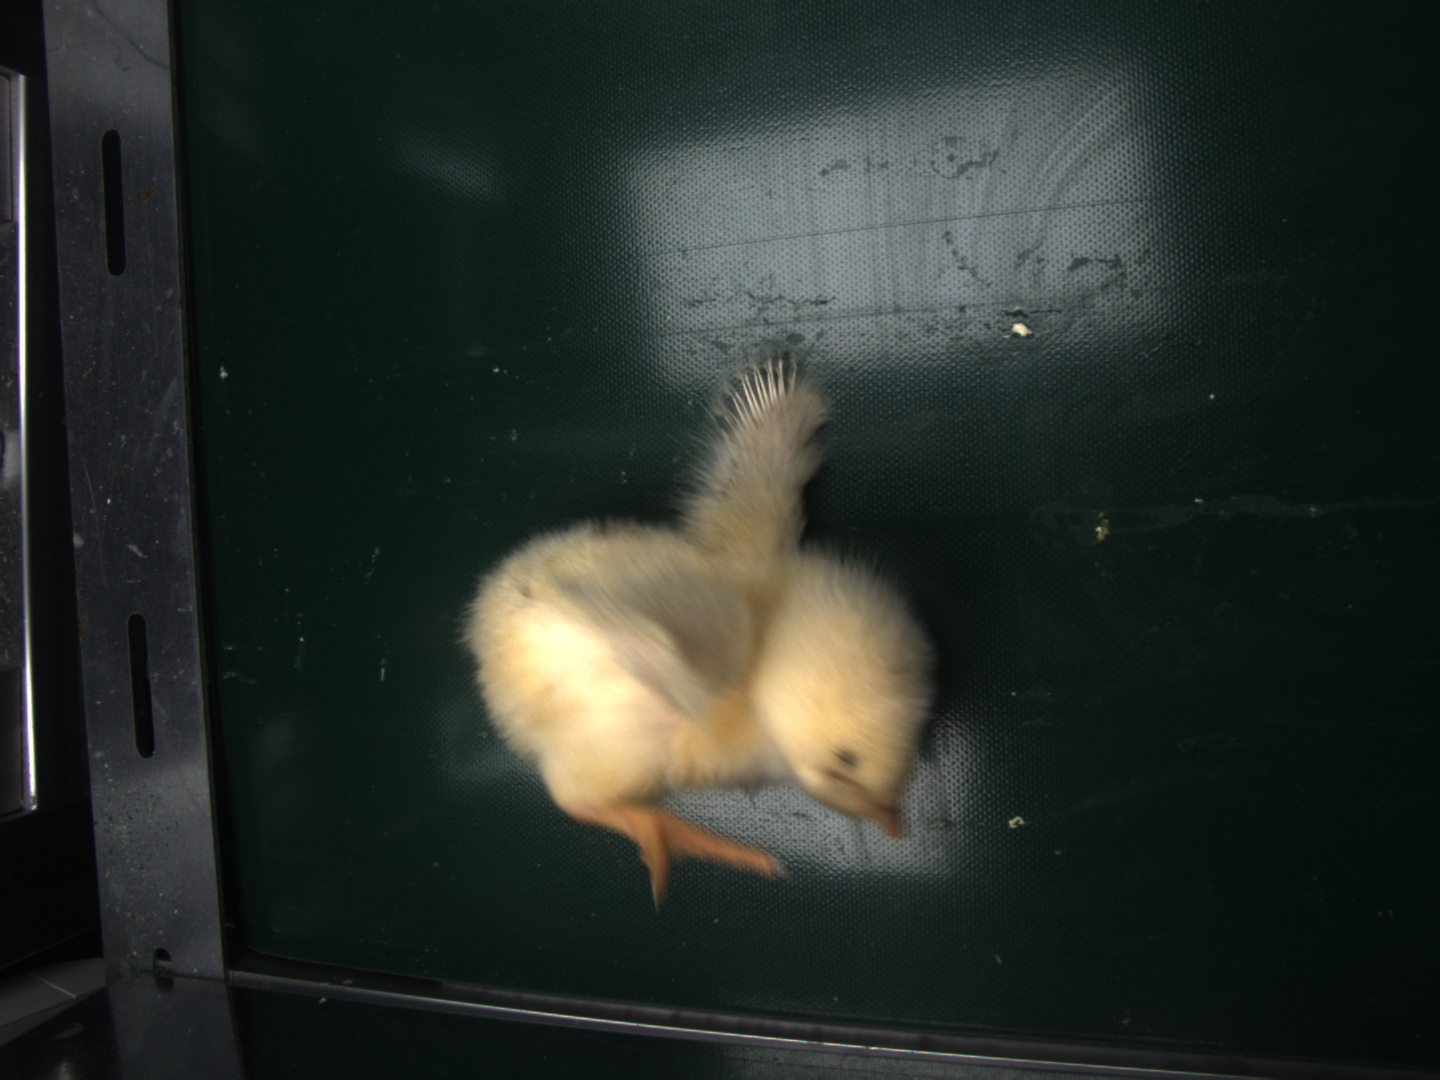male: (726, 351, 798, 431)
